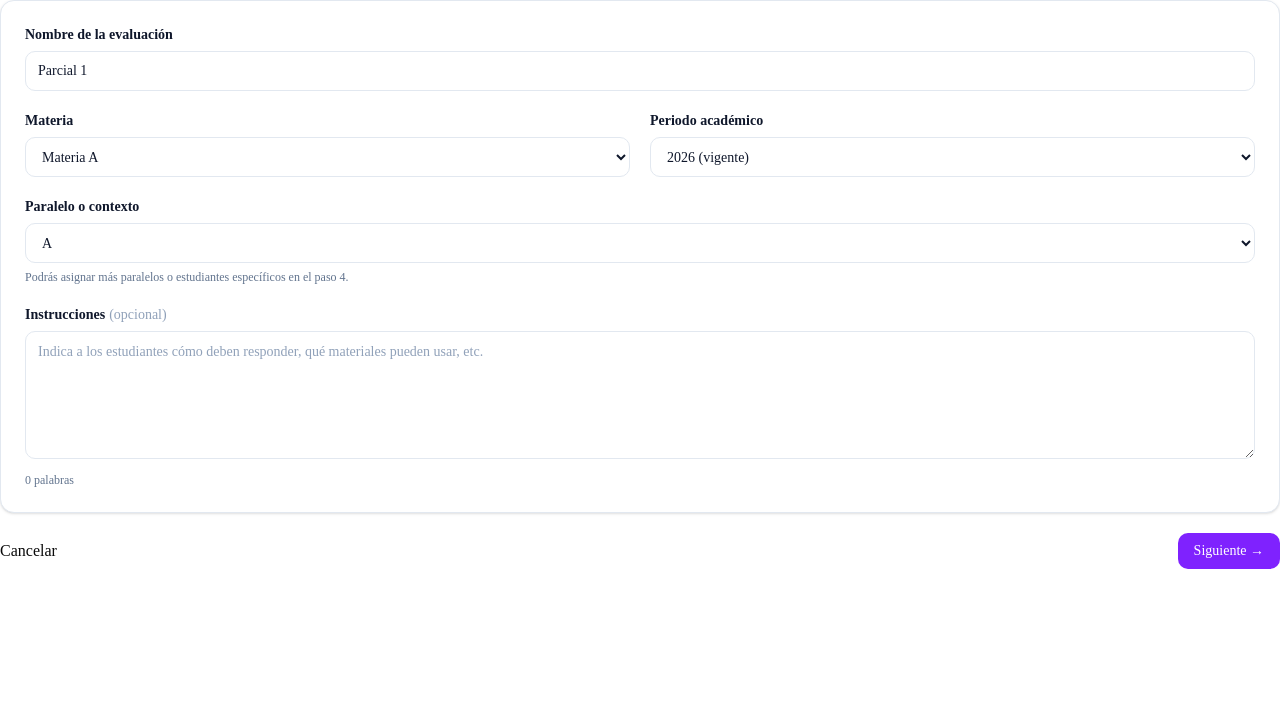
EvaluacionInfoForm — advertencia de reinicio de asignaciones › cancelar cierra el diálogo, no actualiza y conserva los datos
Select "Materia C" in the dropdown labelled "Materia". click: (328, 157)
box: [25,137,630,177]
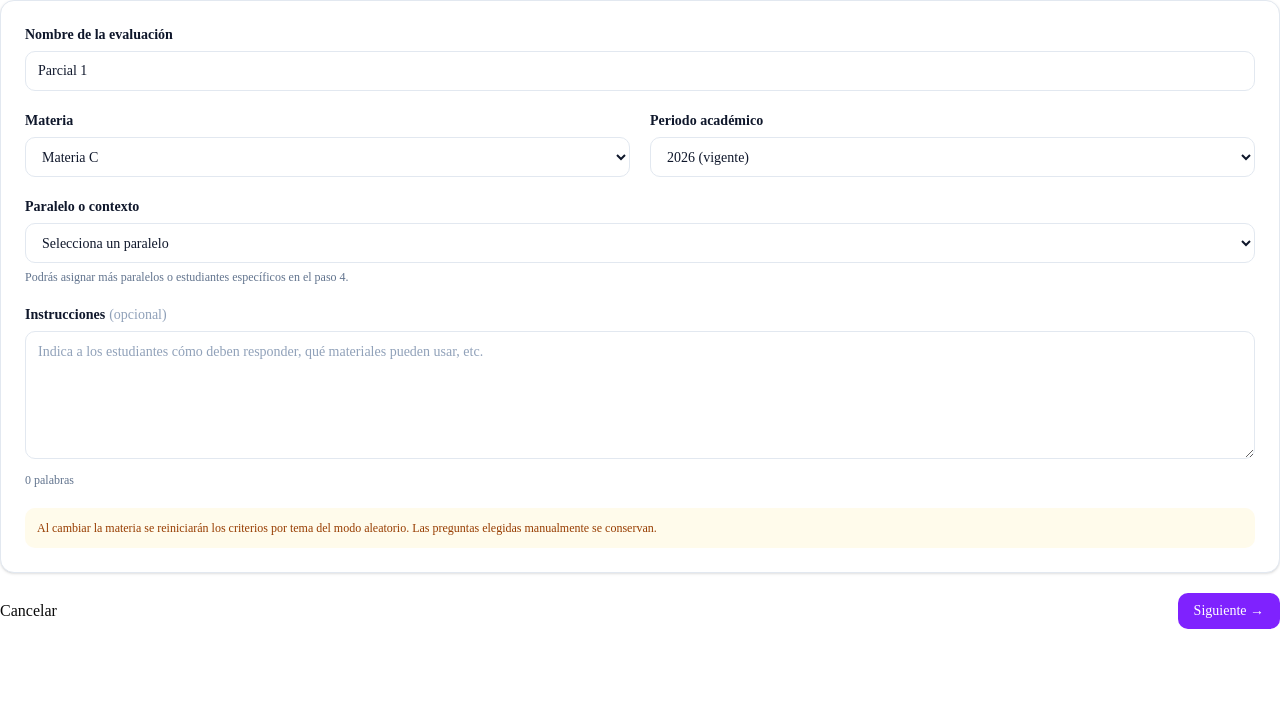
Select "C" in the dropdown labelled "Paralelo o contexto". click: (640, 243)
box: [25,223,1255,263]
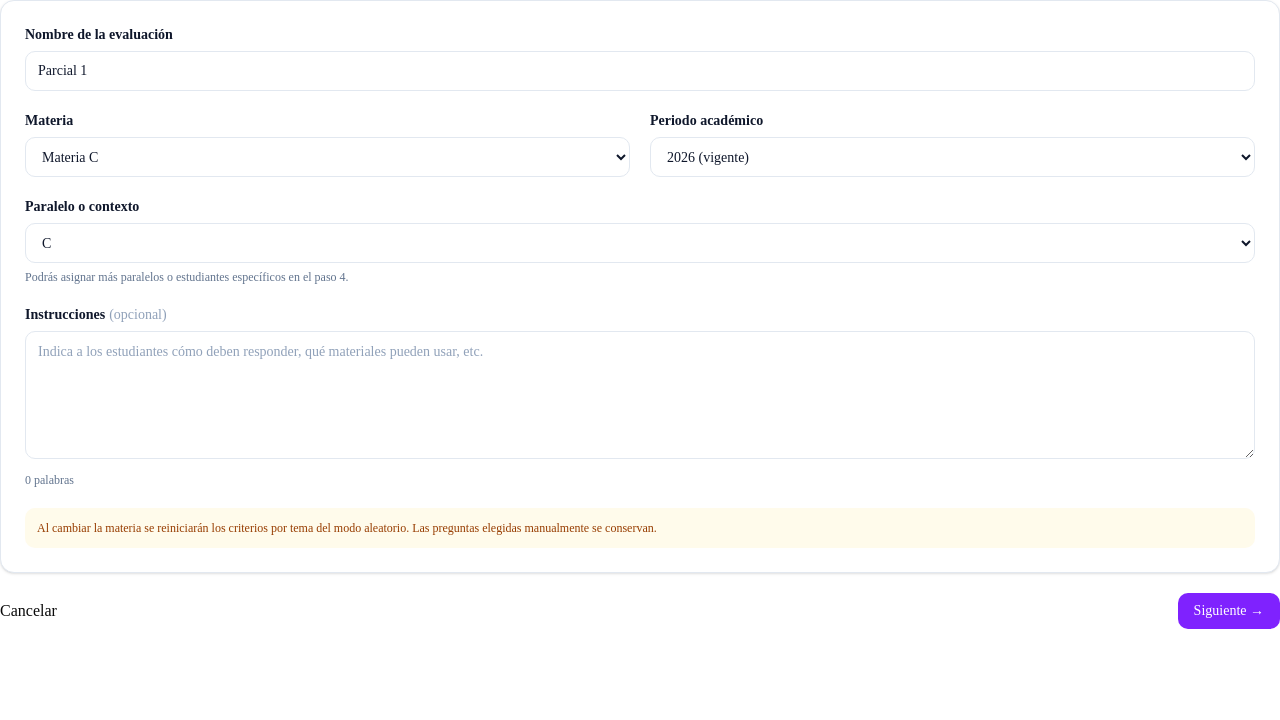
Click the button "Siguiente →". click: (1229, 611)
box: [1178,593,1279,629]
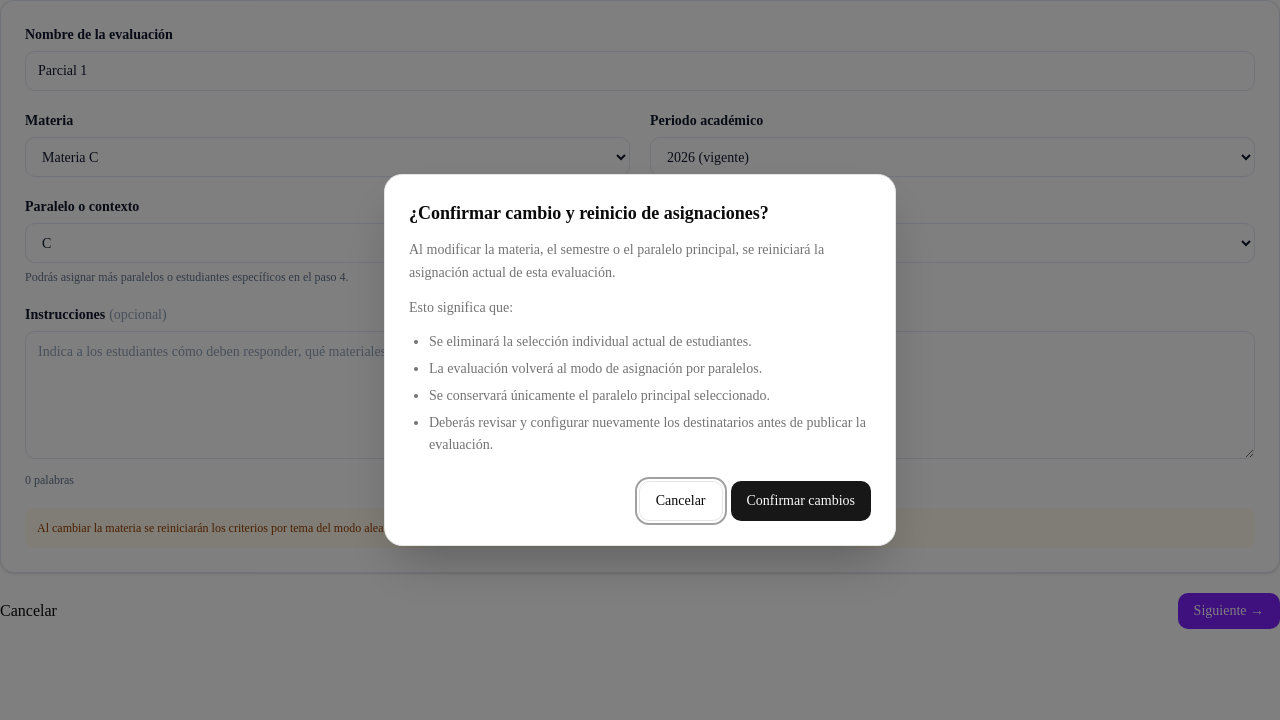
Click the button "Cancelar". click: (681, 501)
box: [639,481,723,521]
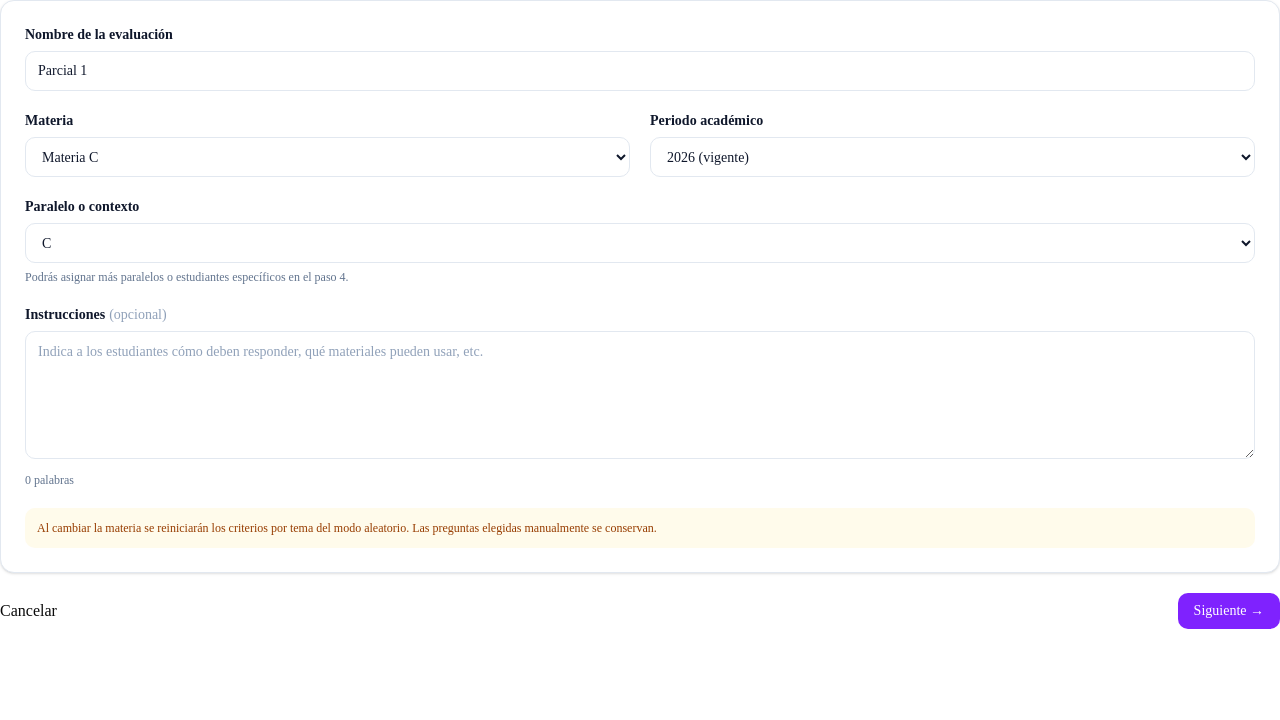
Check: the dialog is gone
